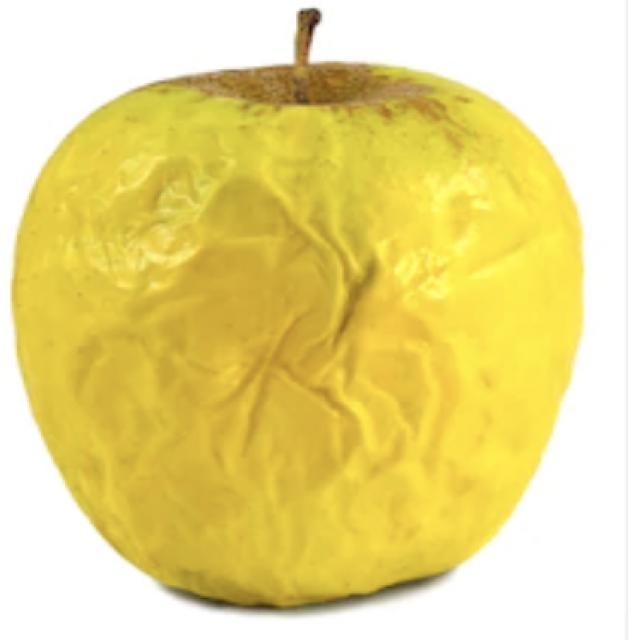Rotten: (43, 71, 557, 592)
